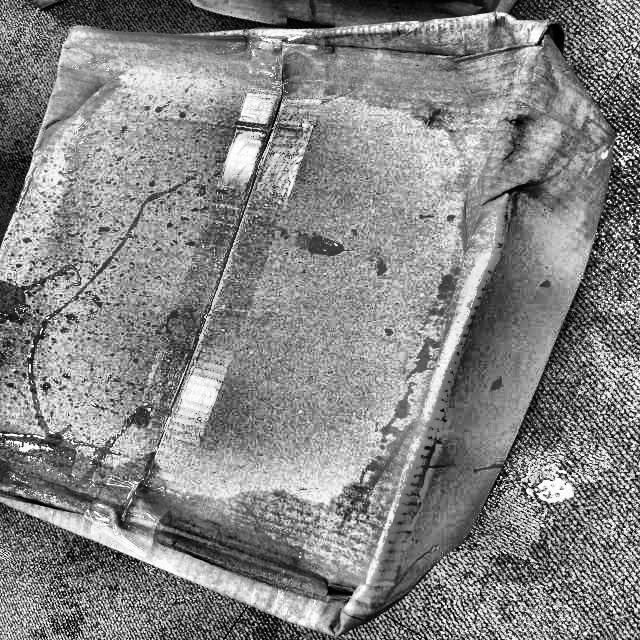box: (0, 13, 619, 639)
wet: (131, 440, 465, 632), (304, 28, 600, 210)
